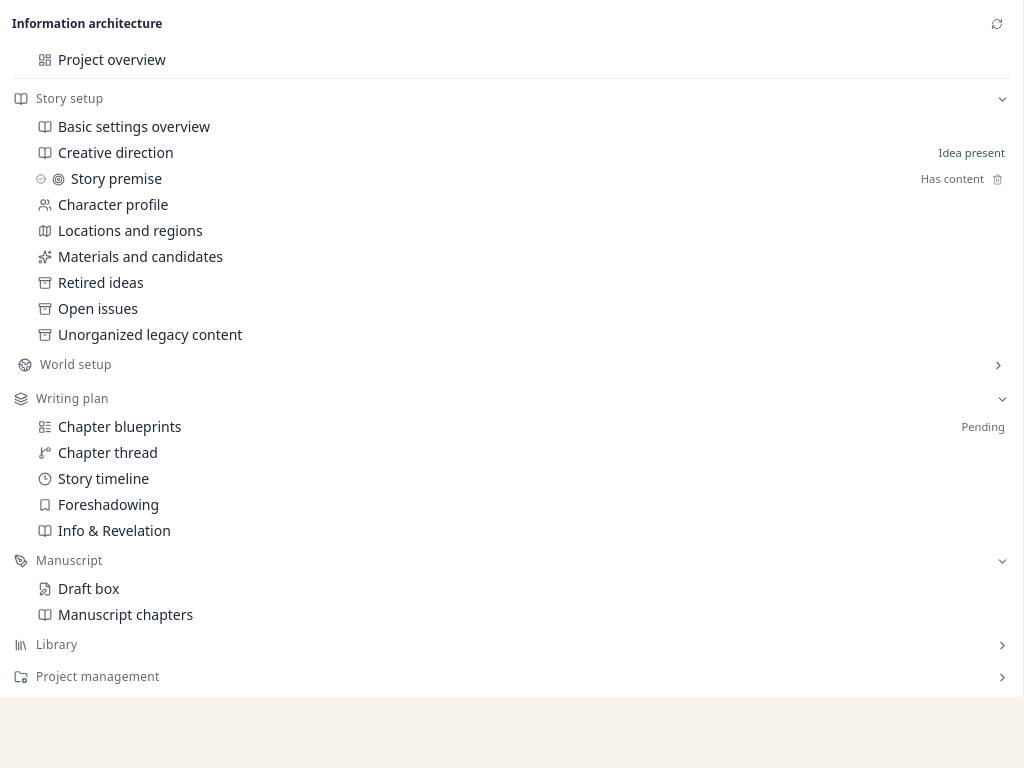
Test: ProjectTree information architecture › keeps premise/worldbuilding in setup and routes the shared book outline through Chapter Blueprints
Expected: the element showing "Story premise Has content" is shown, [10,167,1013,191]
Expected: the element that starts with "Writing plan" shows "Chapter blueprints", [58,417,182,436]
Click the button "World setup". click: (76, 364)
box: [8,351,1015,379]
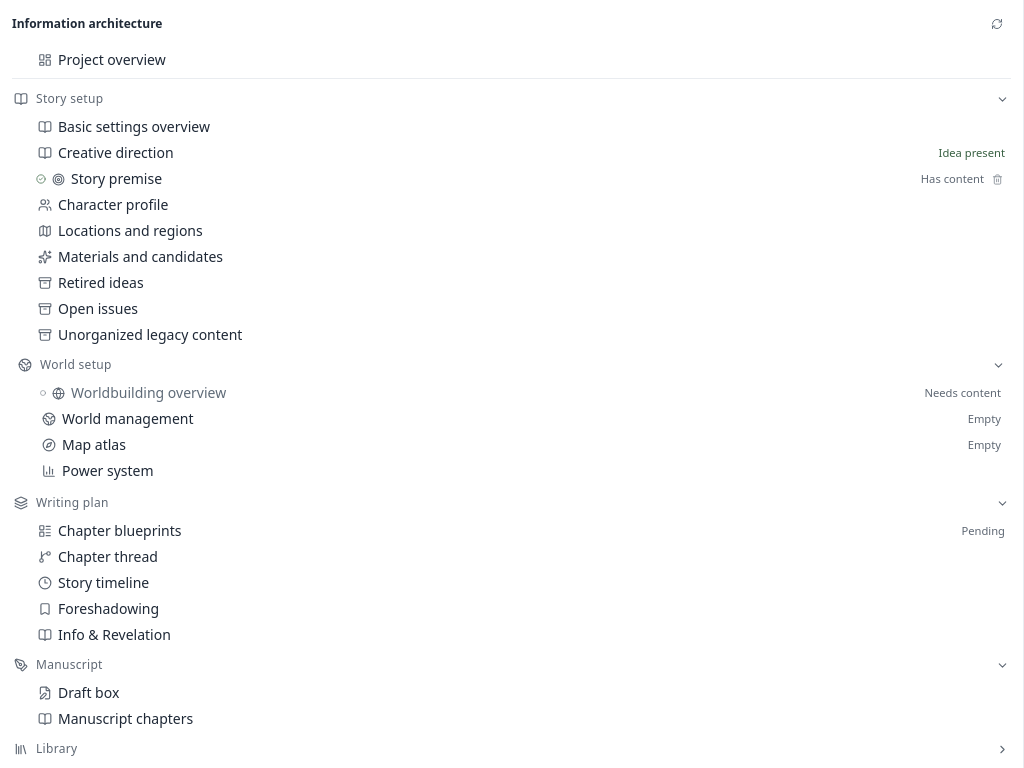
Expected: the element showing "Worldbuilding overview Needs content" is shown, [14,381,1009,405]
